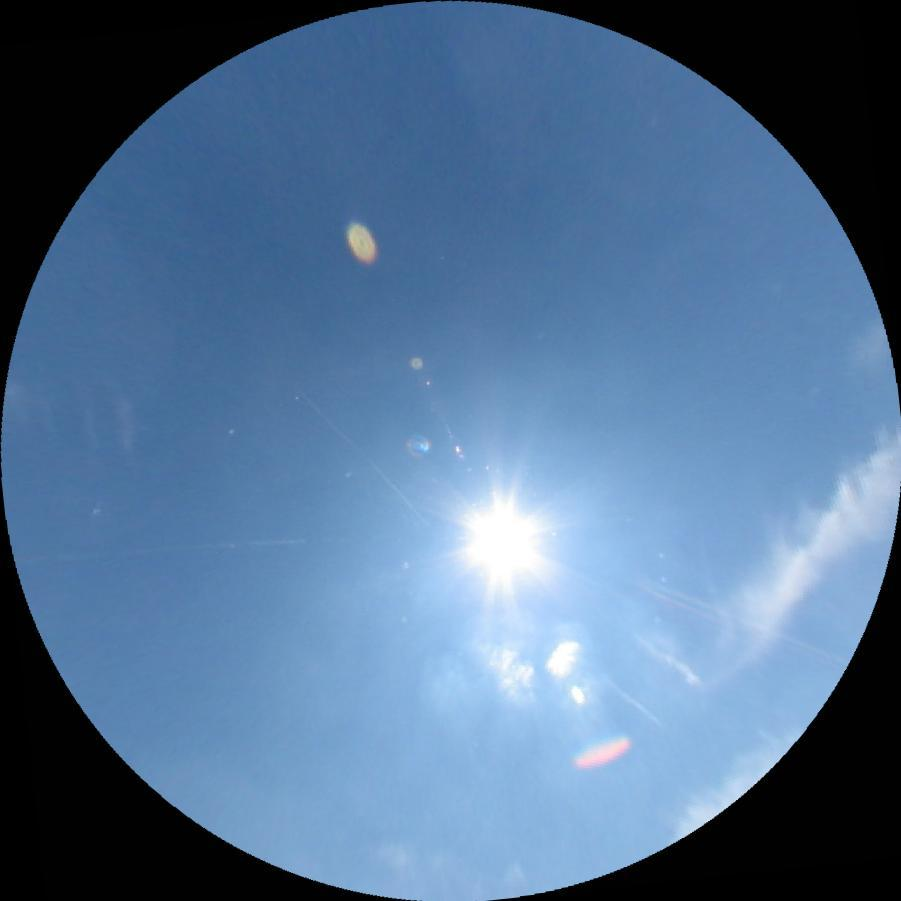contrail old: (301, 391, 427, 525), (599, 672, 662, 728)
parasite: (651, 581, 848, 664), (13, 530, 330, 565), (647, 587, 718, 623)
sun: (448, 487, 553, 592)
